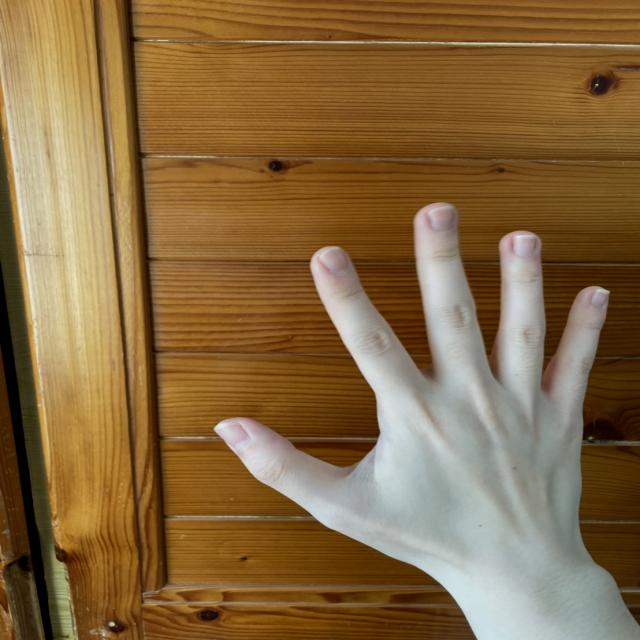no_glove: (198, 181, 640, 614)
